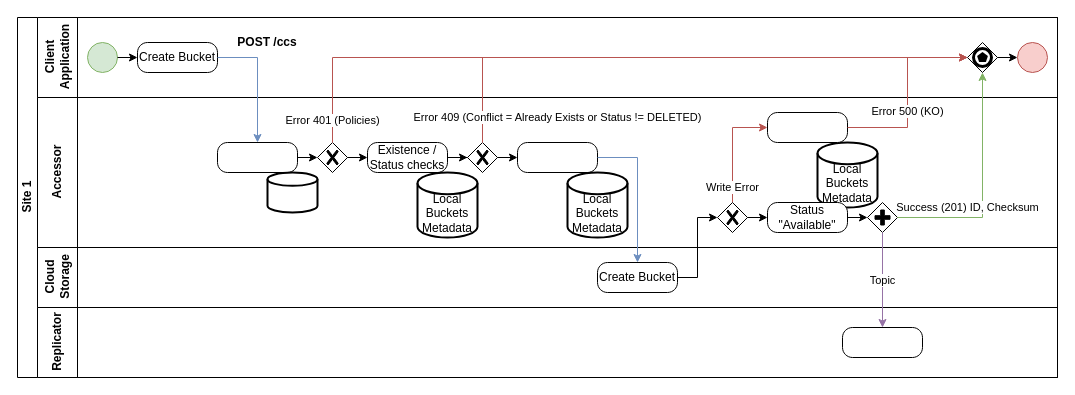
Image size: 1075x395. Some labels were removed from this diagram. The centre of each missing label's shape, as x and y in pixels:
Check Policies: [257,157]
Policies: [292,192]
Replication order: [882,342]
Status "Error": [807,127]
Status "In Progress": [557,157]
